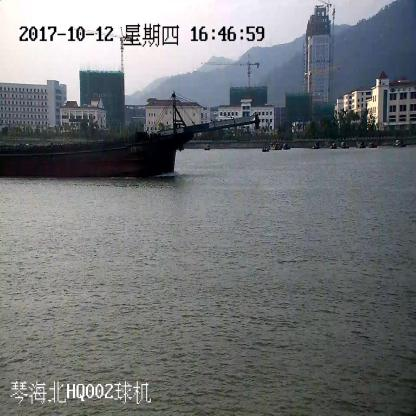Bulk Carrier: (0, 89, 257, 177)
